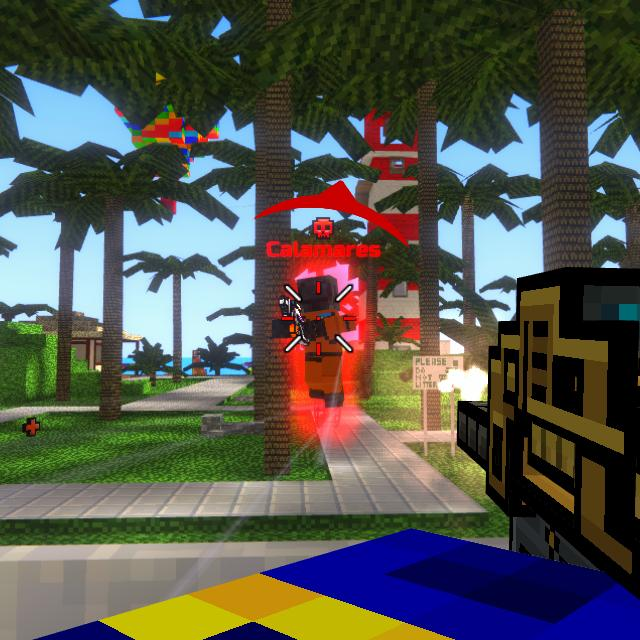Enemy: (276, 277, 359, 409)
